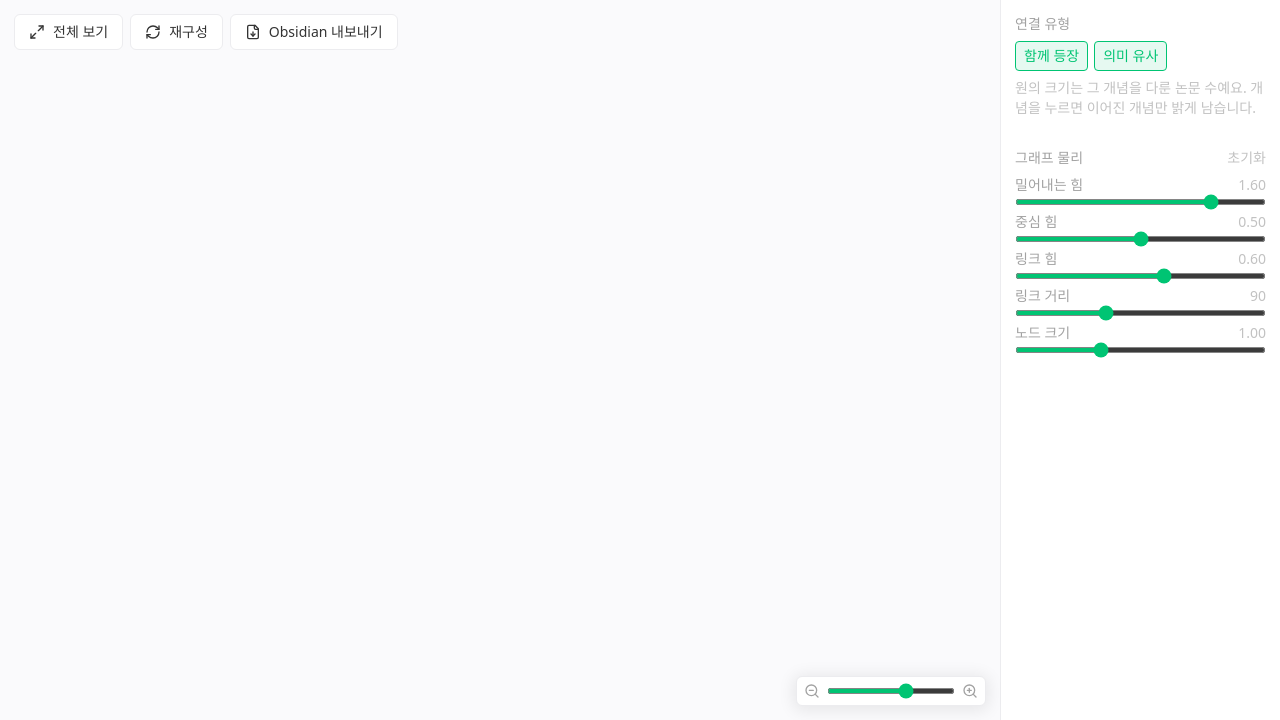
it: graph page — topic view (default) › keeps the graph and shows an inline alert when a rebuild fails
Click the button "재구성": click(176, 32) x1=130 y1=14 x2=223 y2=50
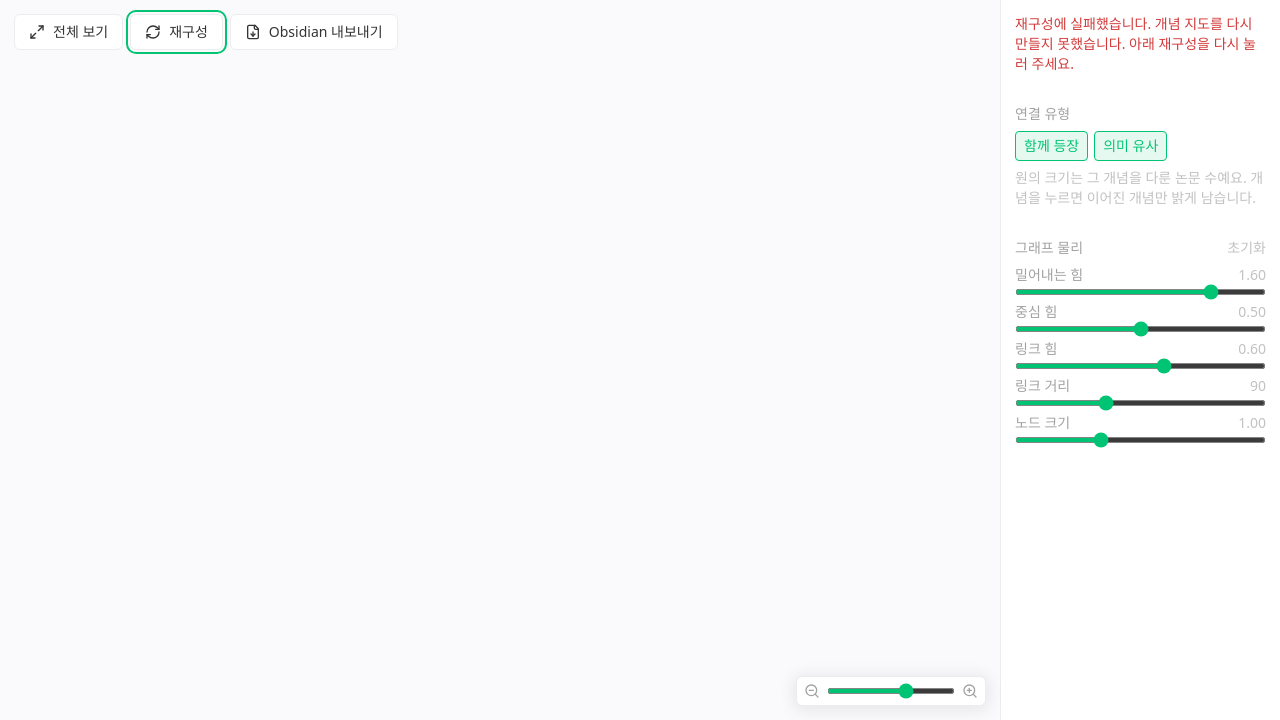
Expected: the message shows "재구성에 실패했습니다.", x1=1015 y1=14 x2=1151 y2=33
